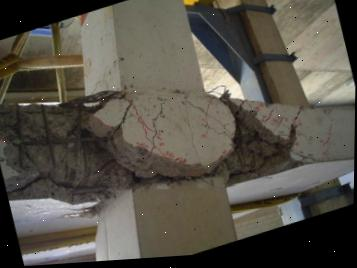exposed_rebar: (16, 105, 87, 168)
spalling: (0, 99, 303, 219)
